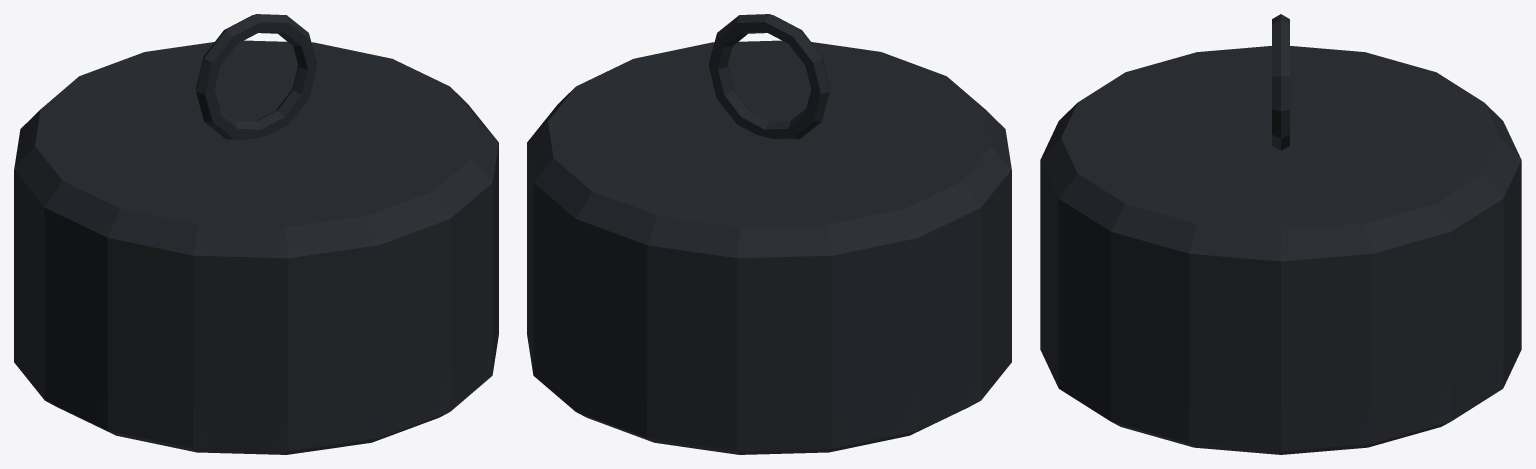
File: party_balloon_weight.glb
3 renders of one model, left to right at view 1: azimuth 30°, elevation 25°; view 2: azimuth 150°, elevation 25°; view 3: azimuth 270°, elevation 25°, orthographic.
Parts seen in each view (by area): view 1: party_balloon_weight; view 2: party_balloon_weight; view 3: party_balloon_weight.
Boxes of the visible parts, <box> form: party_balloon_weight: <box>14,14,498,454</box>; party_balloon_weight: <box>527,14,1011,454</box>; party_balloon_weight: <box>1040,14,1521,454</box>.
Bounding box in the file's own units: 0.07 × 0.0544 × 0.07.
1 material, 1 textured.
